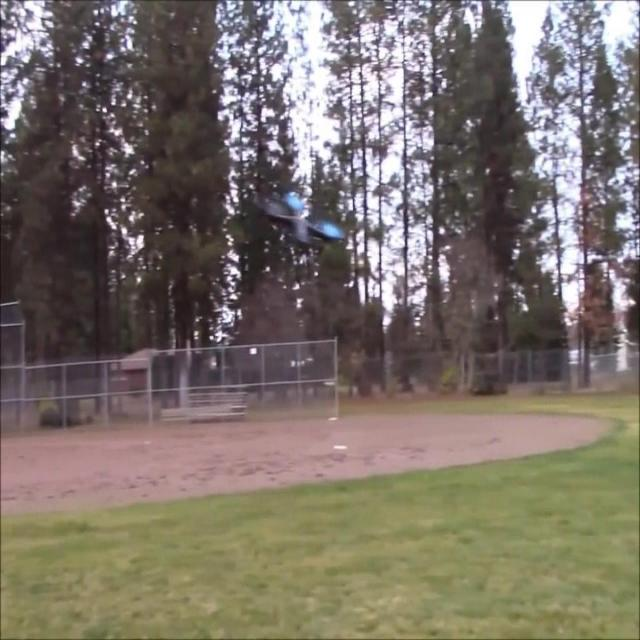UAV: (258, 191, 345, 254)
